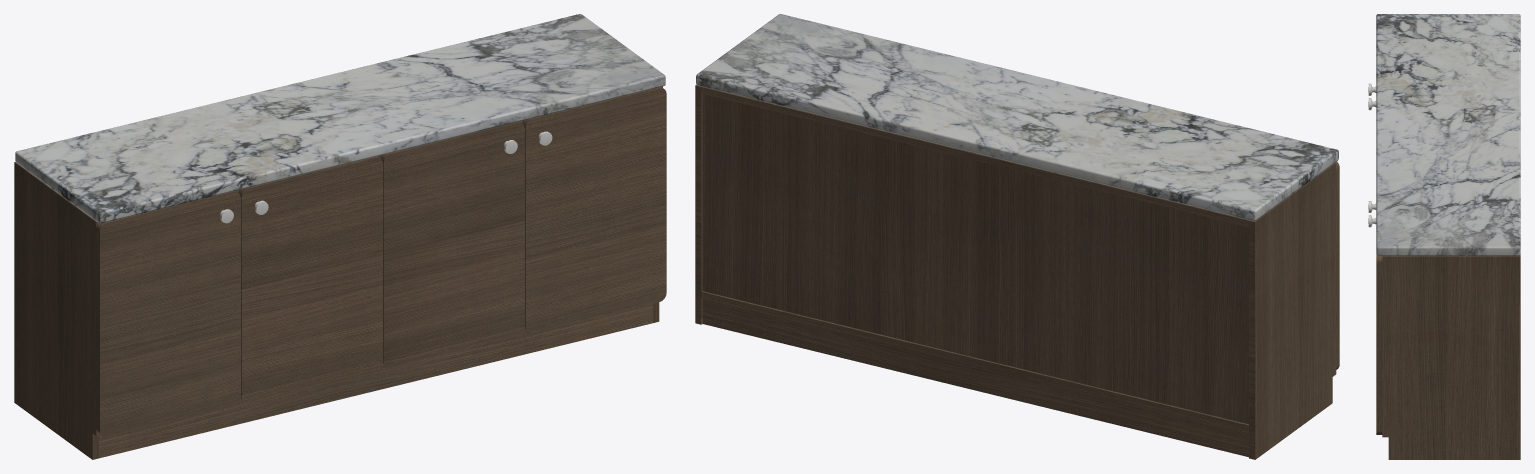
File: alacena.glb
3 views of the same model, side by side, from view 1: azimuth 30°, elevation 25°; view 2: azimuth 150°, elevation 25°; view 3: azimuth 270°, elevation 25° (orthographic). The views are drawn at different scales.
Visible parts, largest first — view 1: Object_2; view 2: Object_2; view 3: Object_2.
Boxes of the visible parts, bbox=[...] form: Object_2: bbox=[14, 14, 666, 459]; Object_2: bbox=[695, 14, 1339, 459]; Object_2: bbox=[1368, 14, 1520, 459].
Bounding box in the file's own units: 180 × 76.4 × 49.62.
Materials: 1 (1 with a texture image).
